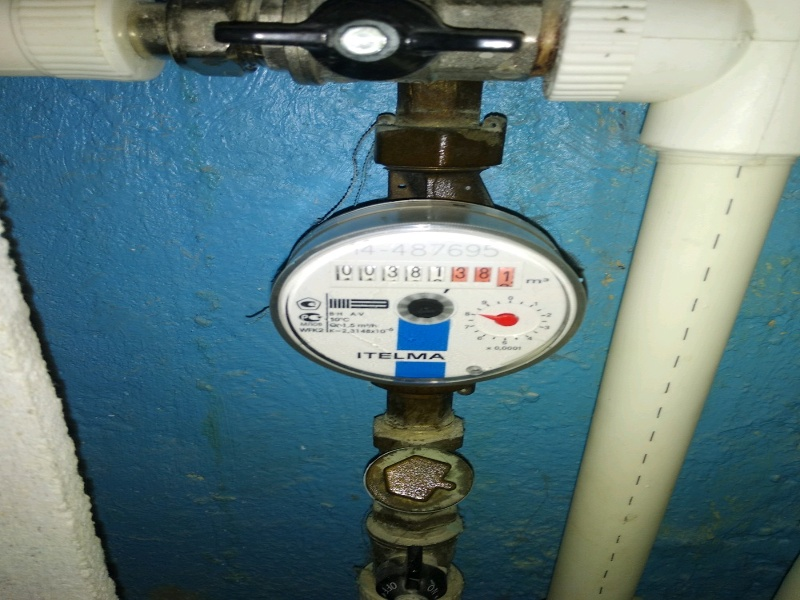meter: (334, 259, 519, 286)
